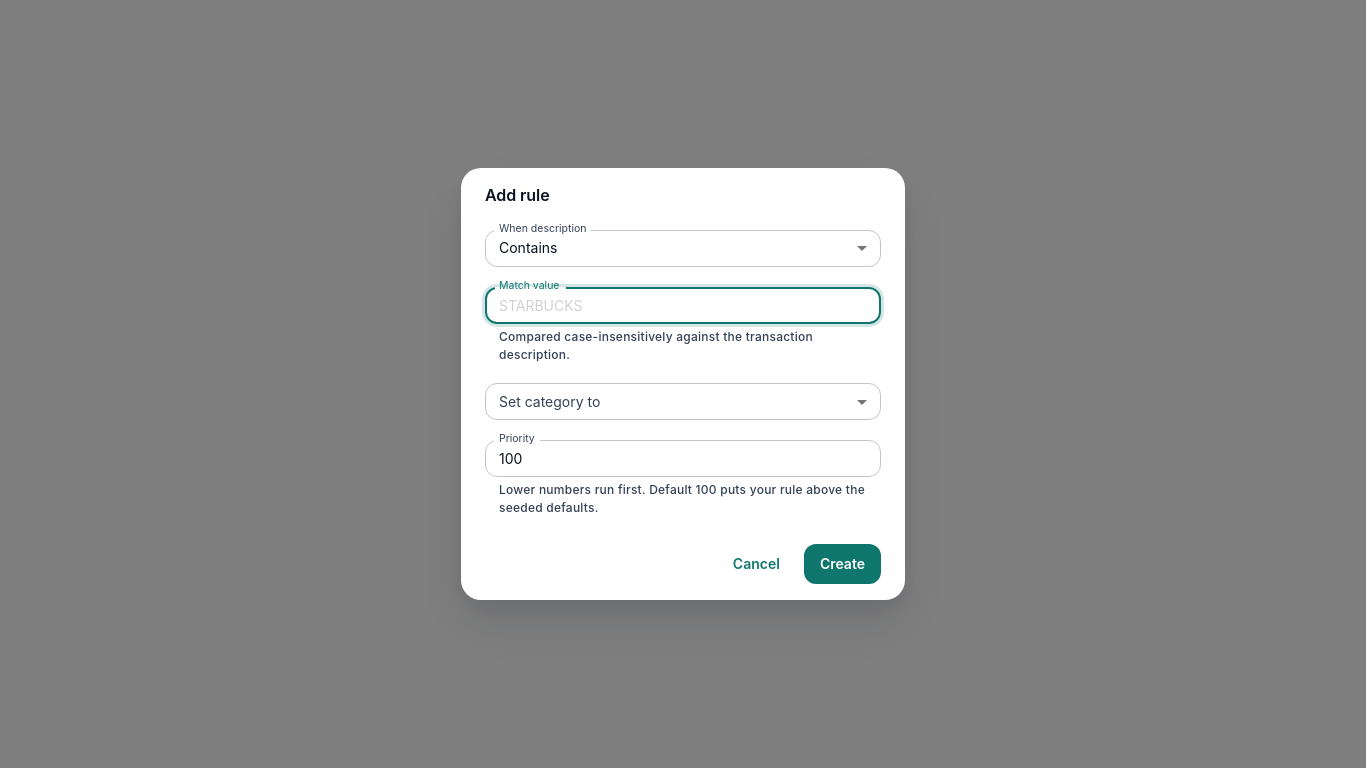
Test: RuleFormDialog (create) › rejects an empty match value
// Pick a category first so the categoryId error doesn't shadow the matchValue one.
Step 1. Click the dropdown named "set category to" → (683, 401), box x1=485 y1=383 x2=881 y2=420
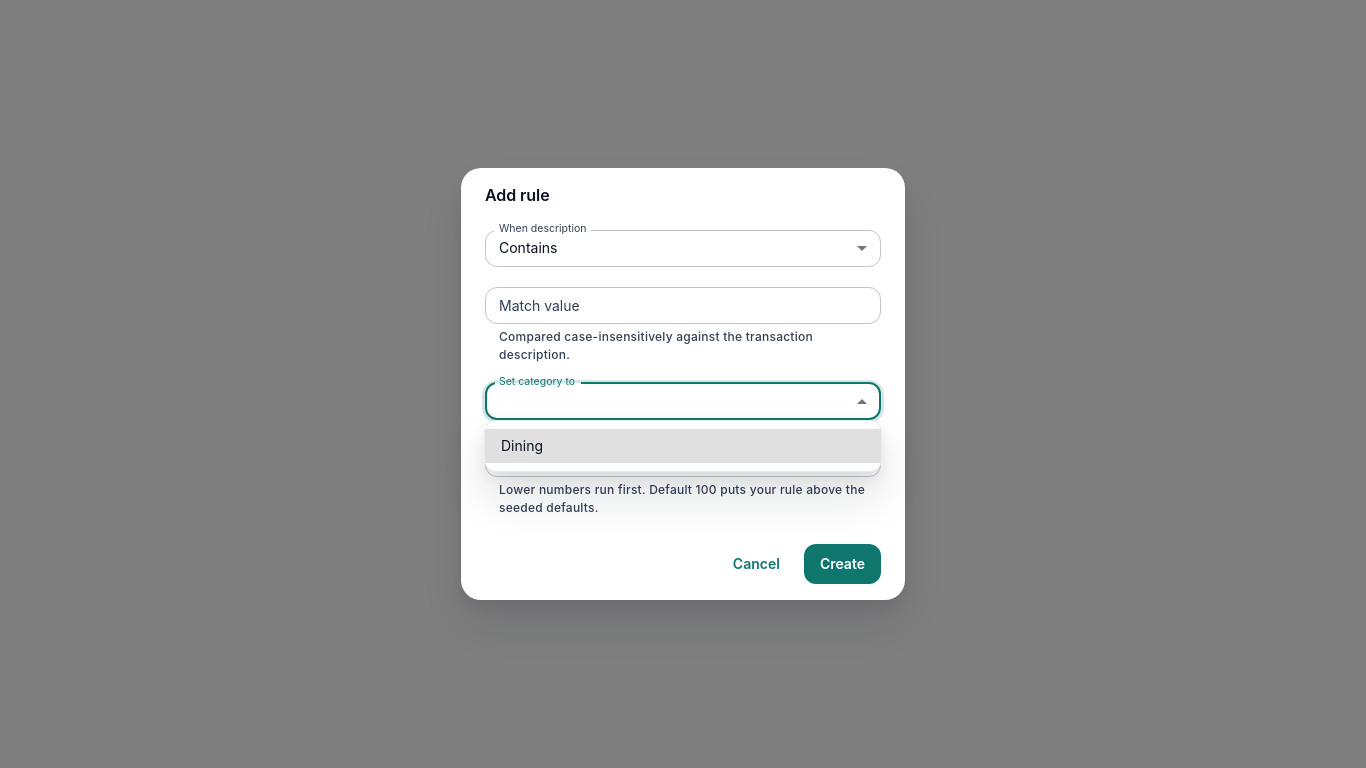
Step 2. Click the option "Dining" → (522, 446), box x1=485 y1=429 x2=881 y2=463
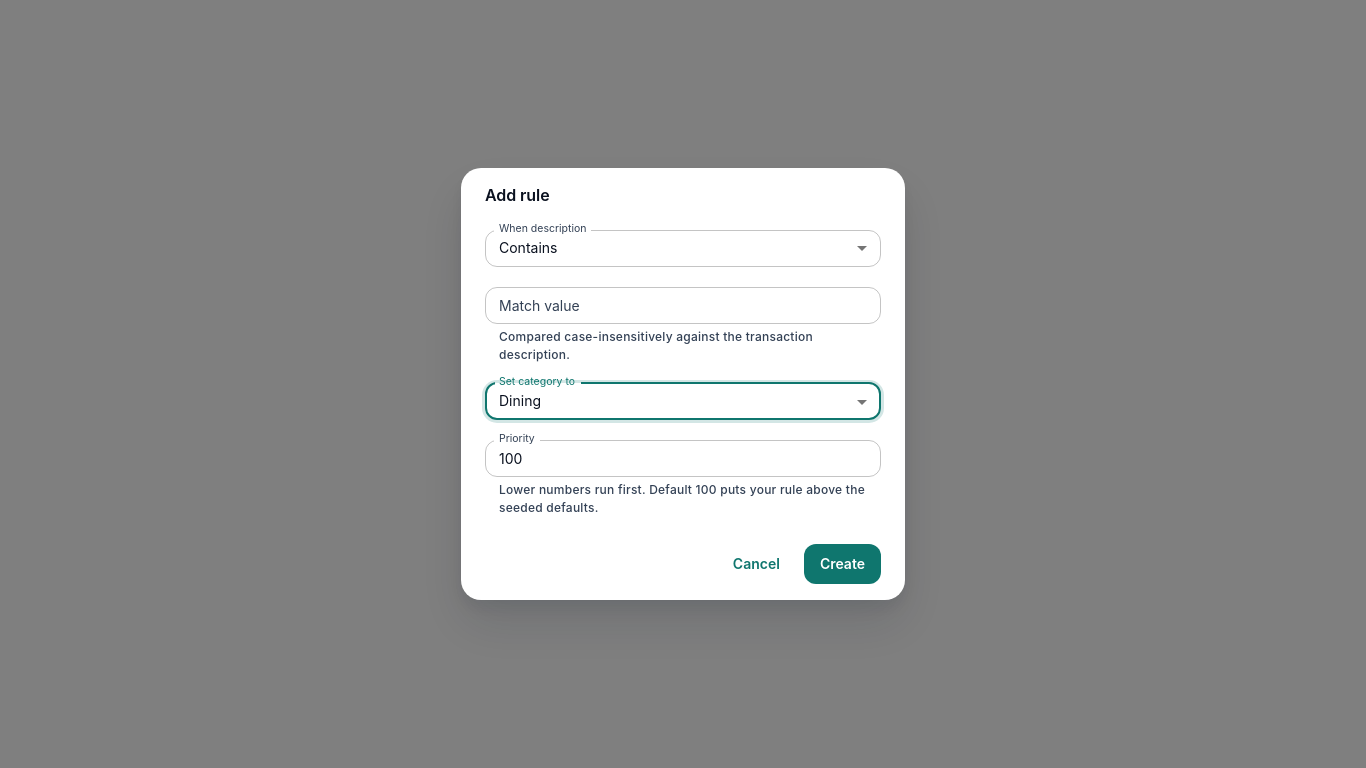
Step 3. Click the button "Create" → (842, 564), box x1=804 y1=544 x2=881 y2=584
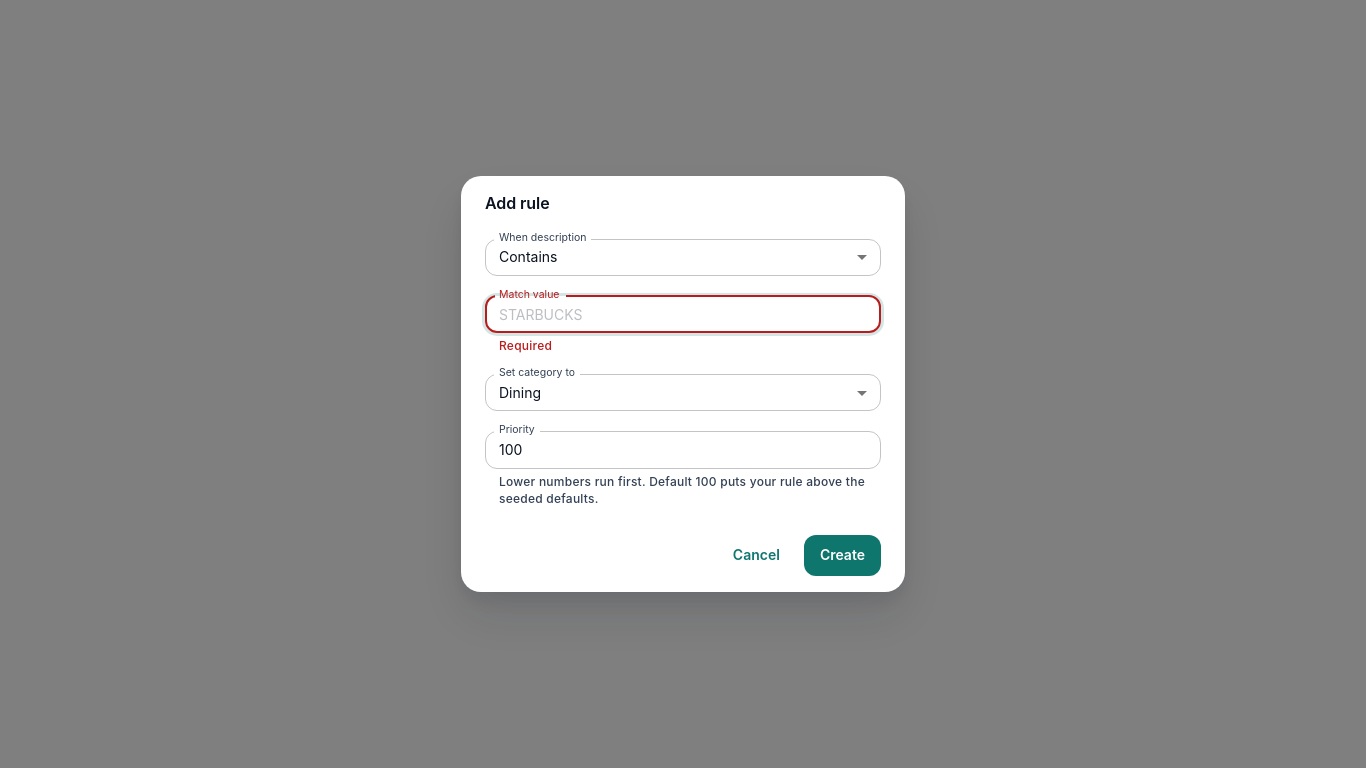
Now the text "Required" is shown, box x1=499 y1=338 x2=552 y2=353
